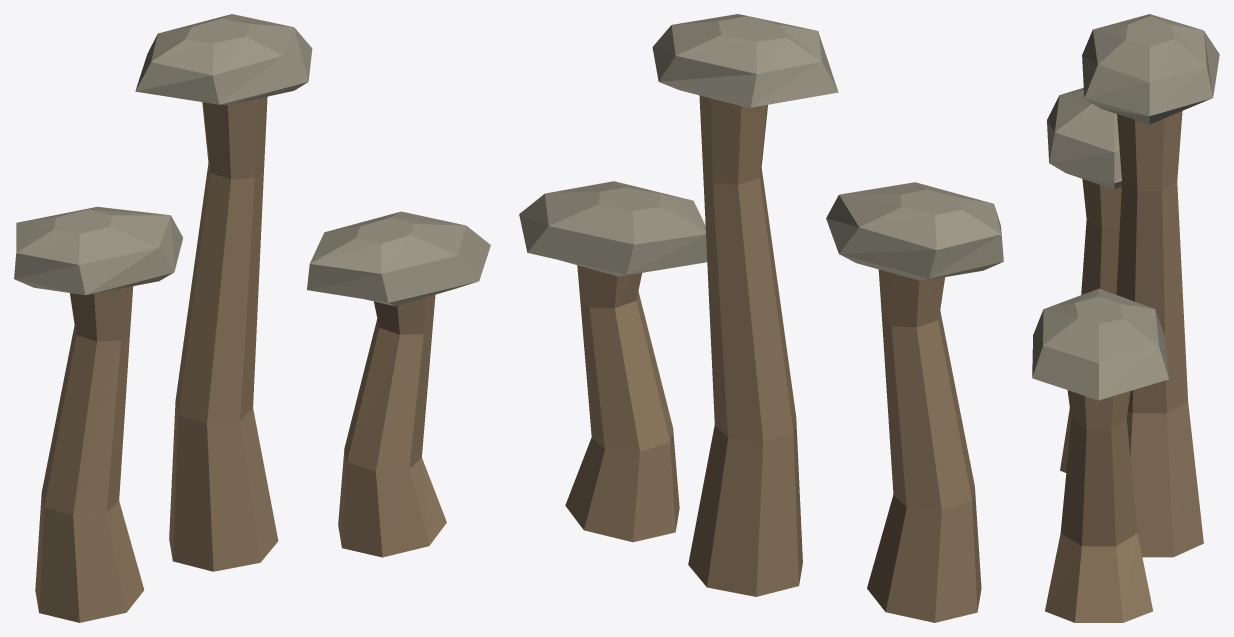
File: Environment_Feature_Hills_HoodooCluster_001_LOD1.glb
3 renders of one model, left to right at view 1: azimuth 30°, elevation 25°; view 2: azimuth 150°, elevation 25°; view 3: azimuth 270°, elevation 25°, orthographic. The views are drawn at different scales.
Visible parts, largest first — view 1: Environment_Feature_Hills_HoodooCluster_001_LOD1; view 2: Environment_Feature_Hills_HoodooCluster_001_LOD1; view 3: Environment_Feature_Hills_HoodooCluster_001_LOD1.
Boxes of the visible parts, left/top/right/bottom form: Environment_Feature_Hills_HoodooCluster_001_LOD1: left=14, top=14, right=490, bottom=622; Environment_Feature_Hills_HoodooCluster_001_LOD1: left=519, top=14, right=1003, bottom=622; Environment_Feature_Hills_HoodooCluster_001_LOD1: left=1032, top=14, right=1219, bottom=622.
Bounding box in the file's own units: 5.25 × 5.58 × 1.85.
